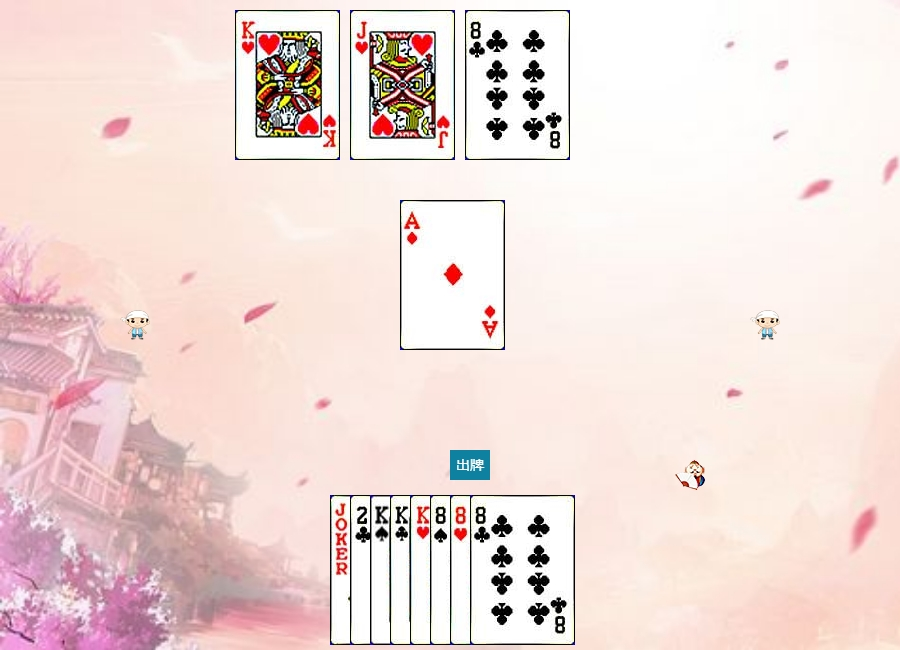11~3: (350, 10, 455, 160)
13~2: (390, 495, 495, 645)
13~3: (235, 10, 340, 160), (410, 495, 515, 645)
13~4: (370, 495, 475, 645)
14~1: (400, 200, 505, 350)
15~2: (350, 495, 455, 645)
18~4: (330, 495, 435, 645)
8~2: (465, 10, 570, 160), (470, 495, 575, 645)
8~3: (450, 495, 555, 645)
8~4: (430, 495, 535, 645)
